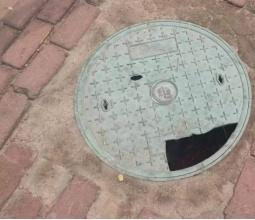wellcover: (75, 17, 249, 183)
